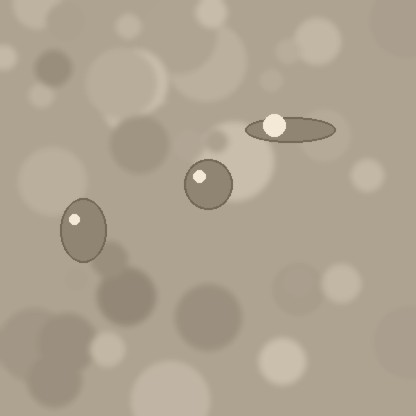gota: (60, 200, 106, 268), (184, 161, 232, 213), (245, 118, 335, 144)
